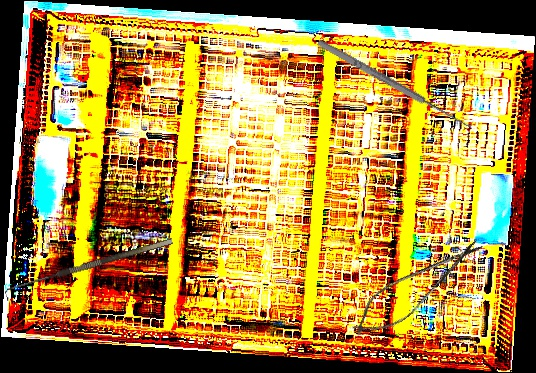Hook Surgical: (315, 31, 477, 133), (3, 238, 176, 301)
Micro Scissor: (343, 226, 491, 348)
